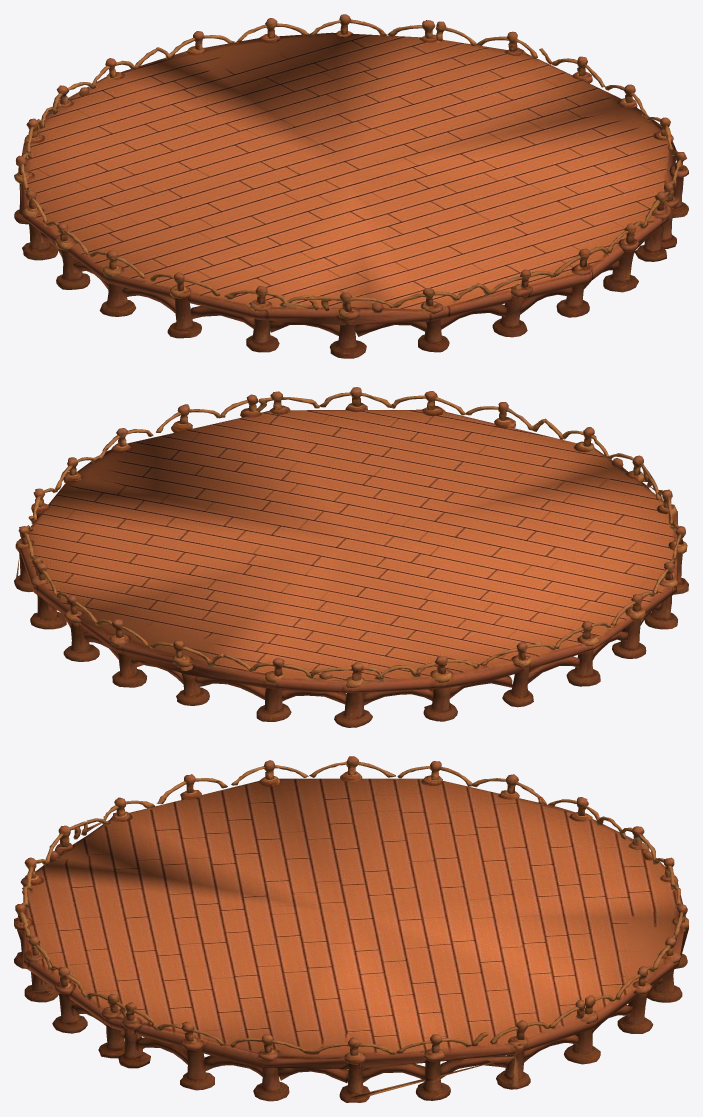
File: hub.glb
3 views of the same model, one above another, from view 1: azimuth 30°, elevation 25°; view 2: azimuth 150°, elevation 25°; view 3: azimuth 270°, elevation 25° (orthographic).
Visible parts, largest first — view 1: mesh_node.003; view 2: mesh_node.003; view 3: mesh_node.003.
Part boxes in pixels (x1,y1,x2,y2): mesh_node.003: (14,14,688,358); mesh_node.003: (14,387,688,727); mesh_node.003: (14,756,688,1102).
Size of the model in its own units: 20.1 by 2.1 by 20.1.
Materials: 1 (1 with a texture image).
